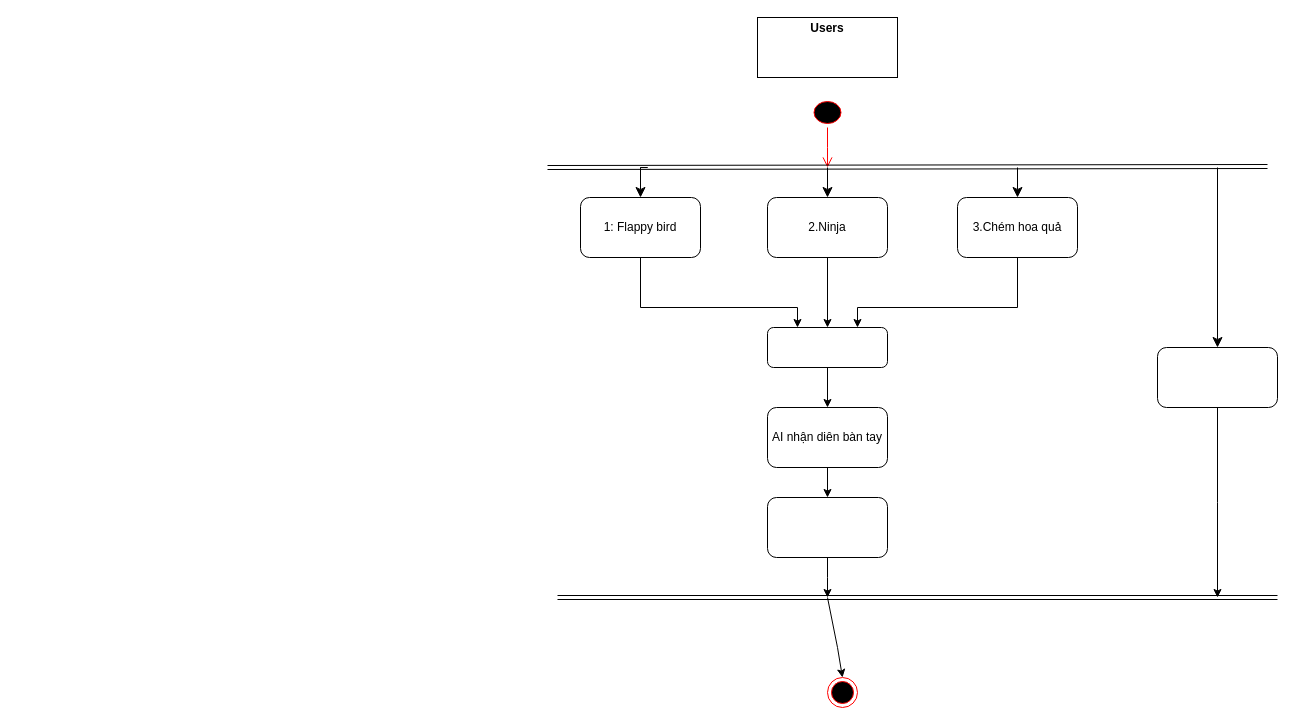
Image size: 1295x725. Some labels were removed from this diagram. Here are the shapes that lost their labels. From the top down, the centre of each, then its label:
At point 827,347: "Bắt đầu chơi".
At point 1217,377: "4.Thoát".
At point 827,527: "Kết thúc trò chơi".
